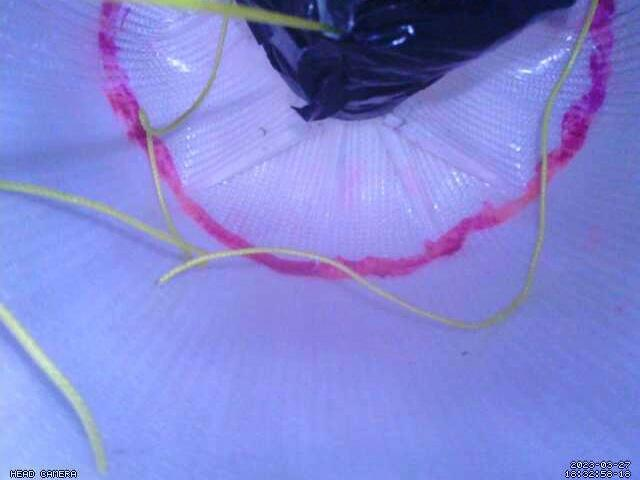head: (96, 0, 617, 280)
